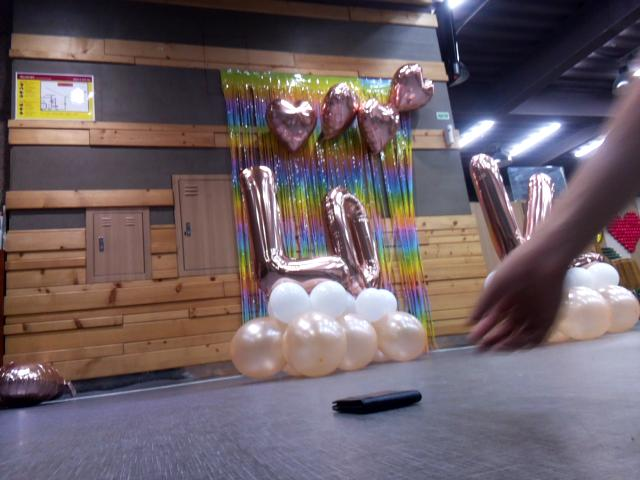wallet: (327, 385, 435, 426)
